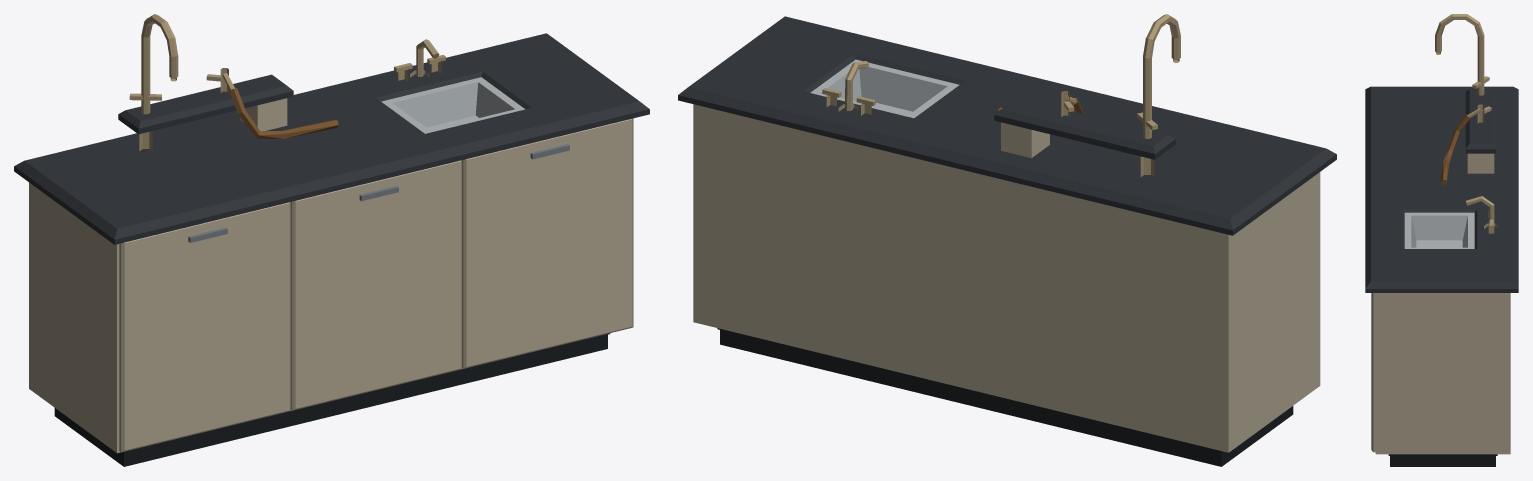
File: lab-bench-740e7b.glb
3 views of the same model, side by side, from view 1: azimuth 30°, elevation 25°; view 2: azimuth 150°, elevation 25°; view 3: azimuth 270°, elevation 25° (orthographic). The views are drawn at different scales.
Visible parts, largest first — view 1: bench, door-1-panel, door-2-panel, door-3-panel; view 2: bench; view 3: bench, door-3-panel.
Part boxes in pixels (<box>): bench: <box>14,14,649,466</box>; door-1-panel: <box>119,202,290,452</box>; door-2-panel: <box>290,160,461,410</box>; door-3-panel: <box>462,118,632,368</box>; bench: <box>678,14,1336,466</box>; bench: <box>1365,14,1518,466</box>; door-3-panel: <box>1371,293,1375,452</box>.
Bounding box in the file's own units: 2 × 1.41 × 0.65.
